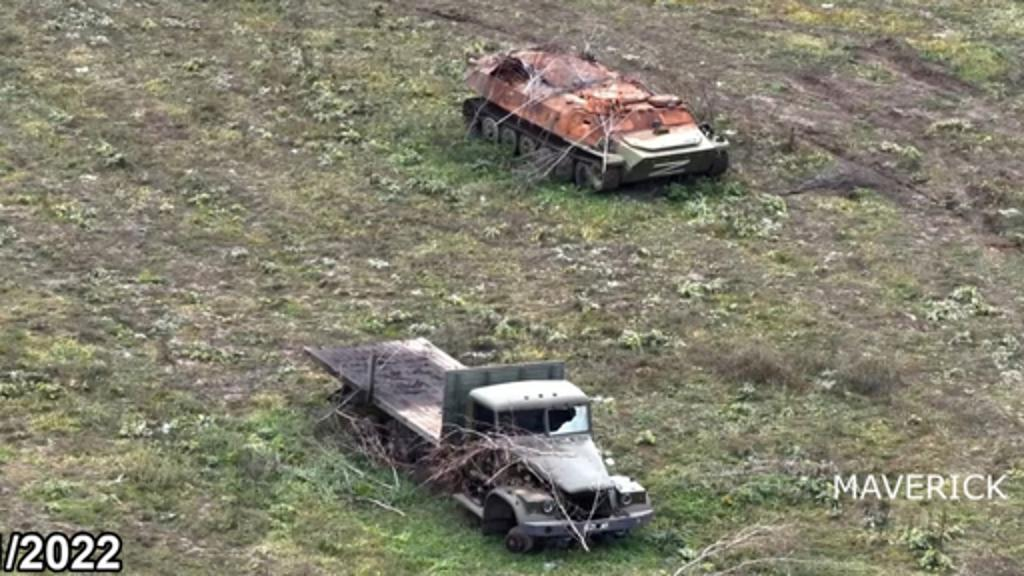APC-IFV: (444, 24, 732, 198)
TRUCK: (294, 318, 656, 552)
